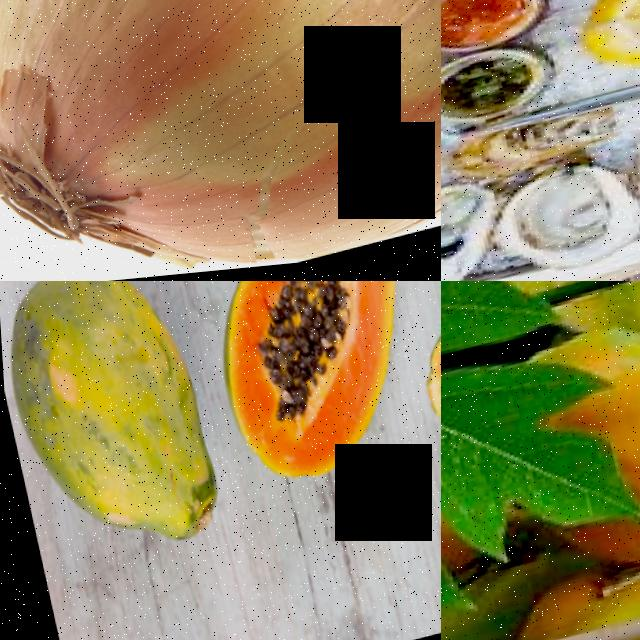lemon: (571, 4, 640, 90), (581, 0, 640, 32)
onion: (0, 0, 441, 281)
oysters: (493, 153, 640, 281), (441, 176, 506, 281)
pawpaw: (0, 281, 228, 576), (187, 281, 441, 499), (583, 354, 640, 578), (496, 559, 640, 640)
